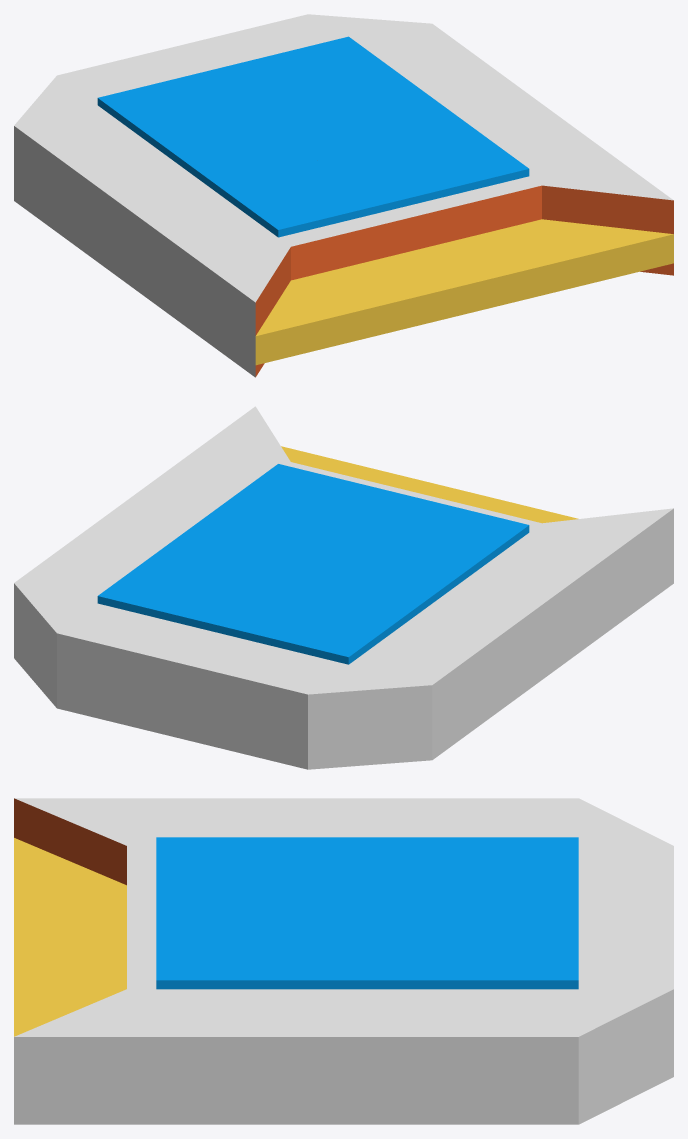
File: Upgrade_Water_03.fbx
3 renders of one model, top to bottom at view 1: azimuth 30°, elevation 25°; view 2: azimuth 150°, elevation 25°; view 3: azimuth 270°, elevation 25°, orthographic. The views are drawn at different scales.
Parts seen in each view (by area): view 1: Cube.001; view 2: Cube.001; view 3: Cube.001.
Boxes of the visible parts, x1,y1,x2,y2 form: Cube.001: (14, 14, 673, 377); Cube.001: (14, 406, 673, 769); Cube.001: (14, 798, 673, 1124).
Size of the model in its own units: 86.17 by 17.74 by 101.
